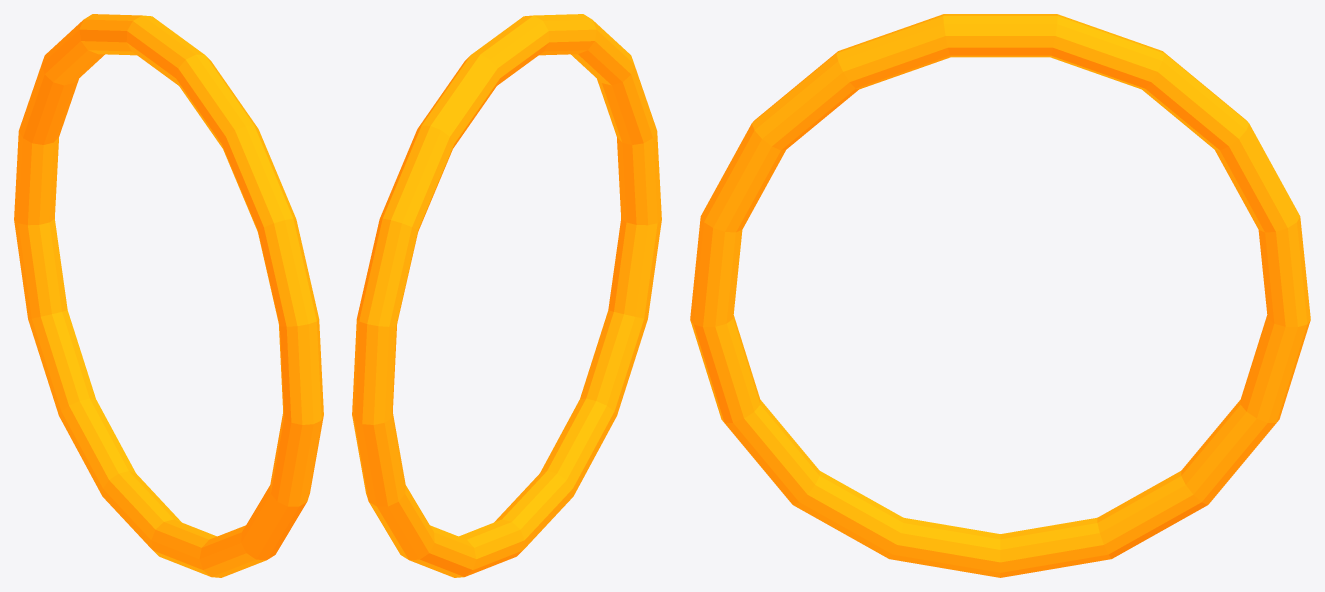
The model's file is RingOfFlames.fbx.
The picture shows the model from 3 angles, left to right: view 1: azimuth 30°, elevation 25°; view 2: azimuth 150°, elevation 25°; view 3: azimuth 270°, elevation 25°; orthographic projection. The views are drawn at different scales.
Parts seen in each view (by area): view 1: Torus.001; view 2: Torus.001; view 3: Torus.001.
Boxes of the visible parts, box(x1,y1,x2,y2) form: Torus.001: box(14, 14, 323, 577); Torus.001: box(352, 14, 661, 577); Torus.001: box(690, 14, 1310, 577).
Size of the model in its own units: 55.43 by 781 by 785.
